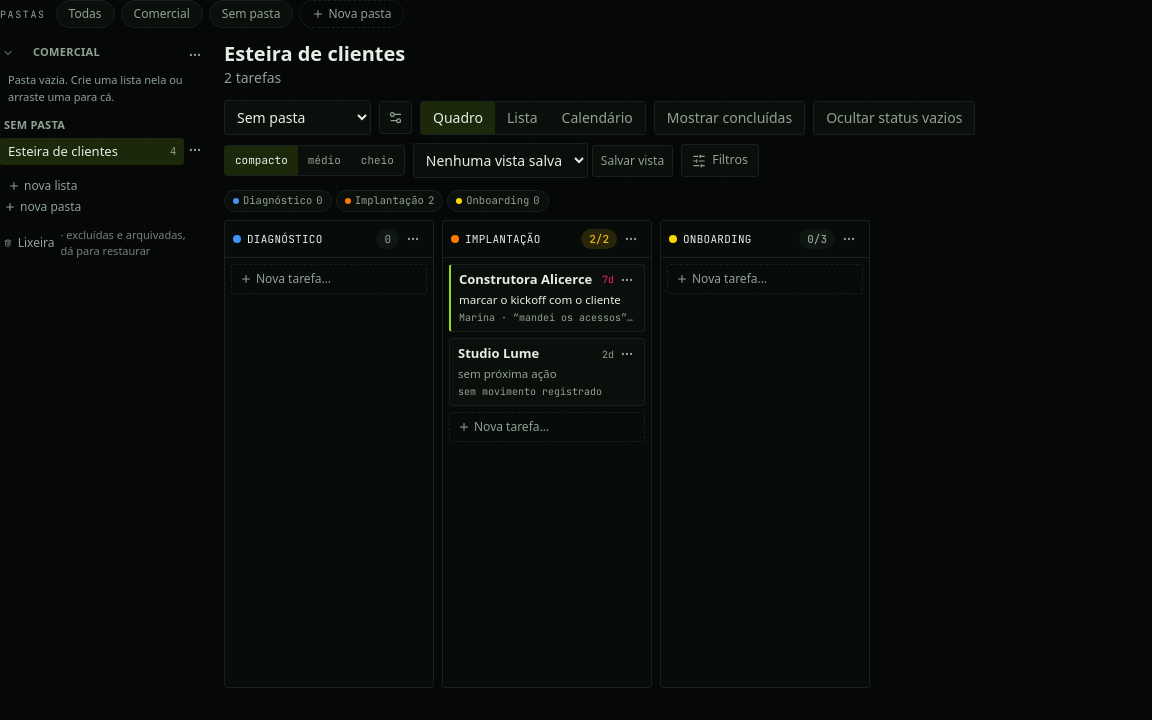
Test: quadro denso na tela › o clique em qualquer ponto do cartão abre o painel (o título é o alvo esticado)
Click the button "Construtora Alicerce". click: x=526, y=280
box: [459,271,592,289]
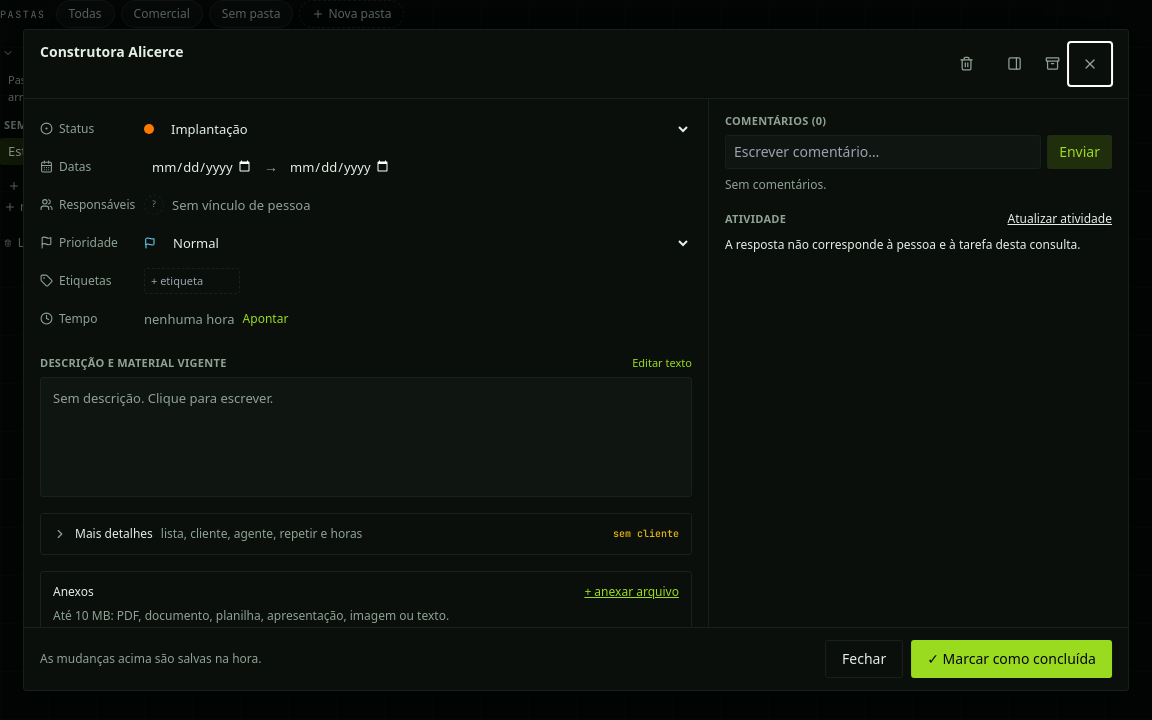
Now the dialog named "Detalhes da tarefa" is shown
